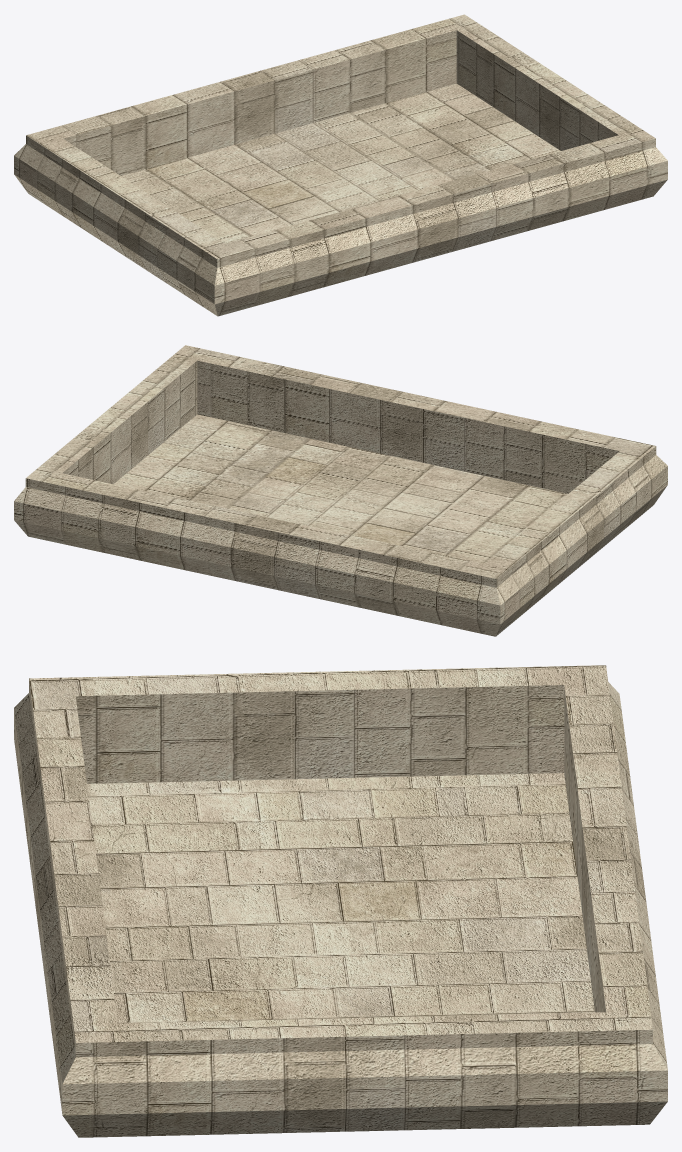
File: walls_120.fbx
3 views of the same model, one above another, from view 1: azimuth 30°, elevation 25°; view 2: azimuth 150°, elevation 25°; view 3: azimuth 270°, elevation 25° (orthographic). The views are drawn at different scales.
Parts seen in each view (by area): view 1: walls_120; view 2: walls_120; view 3: walls_120.
Part boxes in pixels (left/top/right/bottom): walls_120: left=14, top=14, right=667, bottom=316; walls_120: left=14, top=345, right=667, bottom=636; walls_120: left=14, top=665, right=667, bottom=1137.
Size of the model in its own units: 300 by 34.38 by 212.
